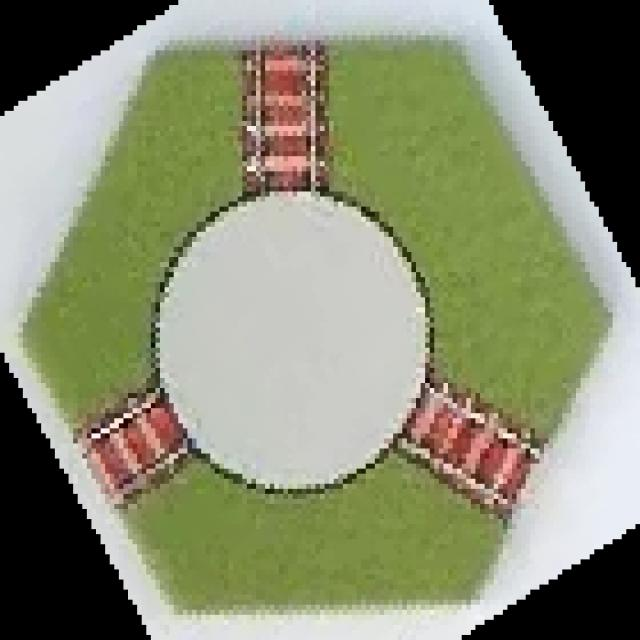11_0: (19, 42, 613, 612)
